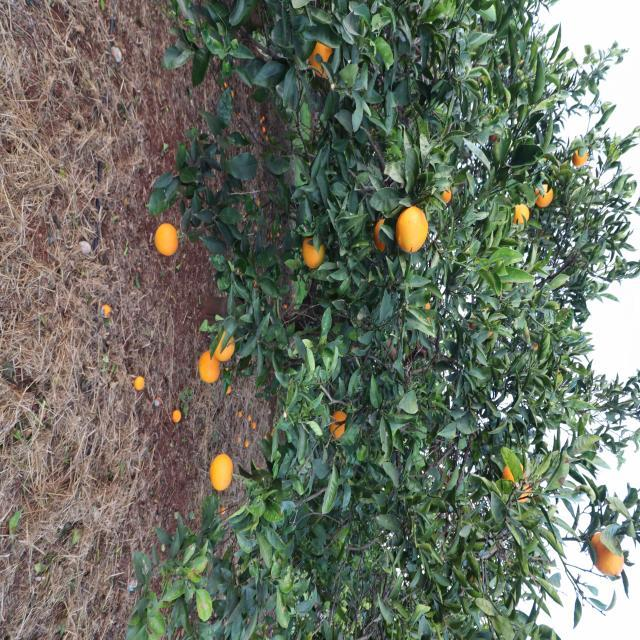Jeruk Sudah Matang: (204, 212, 254, 244), (538, 18, 578, 46), (452, 408, 495, 432), (42, 308, 78, 332), (223, 460, 258, 484), (455, 115, 486, 138), (354, 421, 387, 442), (218, 252, 252, 270), (186, 84, 212, 106), (411, 292, 442, 310), (476, 106, 504, 125), (243, 320, 269, 340), (340, 404, 364, 424), (202, 109, 227, 128), (148, 50, 174, 68), (189, 186, 204, 202), (376, 494, 392, 506), (410, 458, 424, 468), (198, 378, 208, 386)
